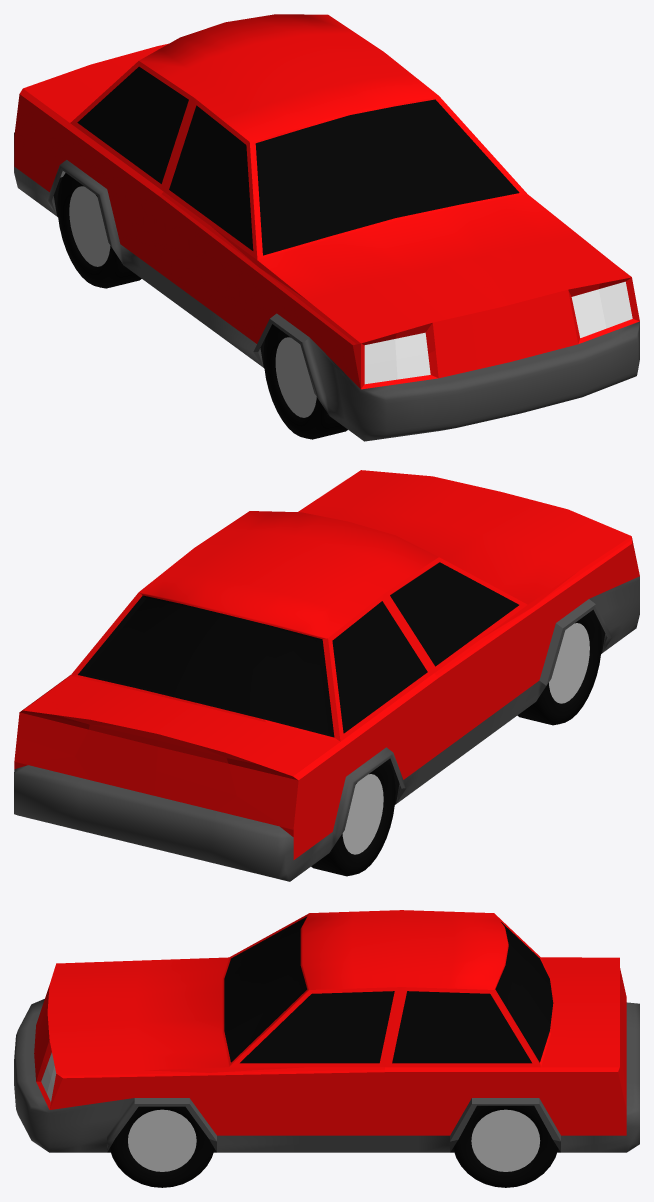
Rendered from car.glb.
3 renders of one model, top to bottom at view 1: azimuth 30°, elevation 25°; view 2: azimuth 150°, elevation 25°; view 3: azimuth 270°, elevation 25°, orthographic. The views are drawn at different scales.
Parts seen in each view (by area): view 1: Car; view 2: Car; view 3: Car.
Part boxes in pixels (x1,y1,x2,y2): Car: [14, 14, 639, 441]; Car: [14, 470, 639, 881]; Car: [14, 910, 639, 1187].
Bounding box in the file's own units: 2.1 × 1.59 × 4.67.
